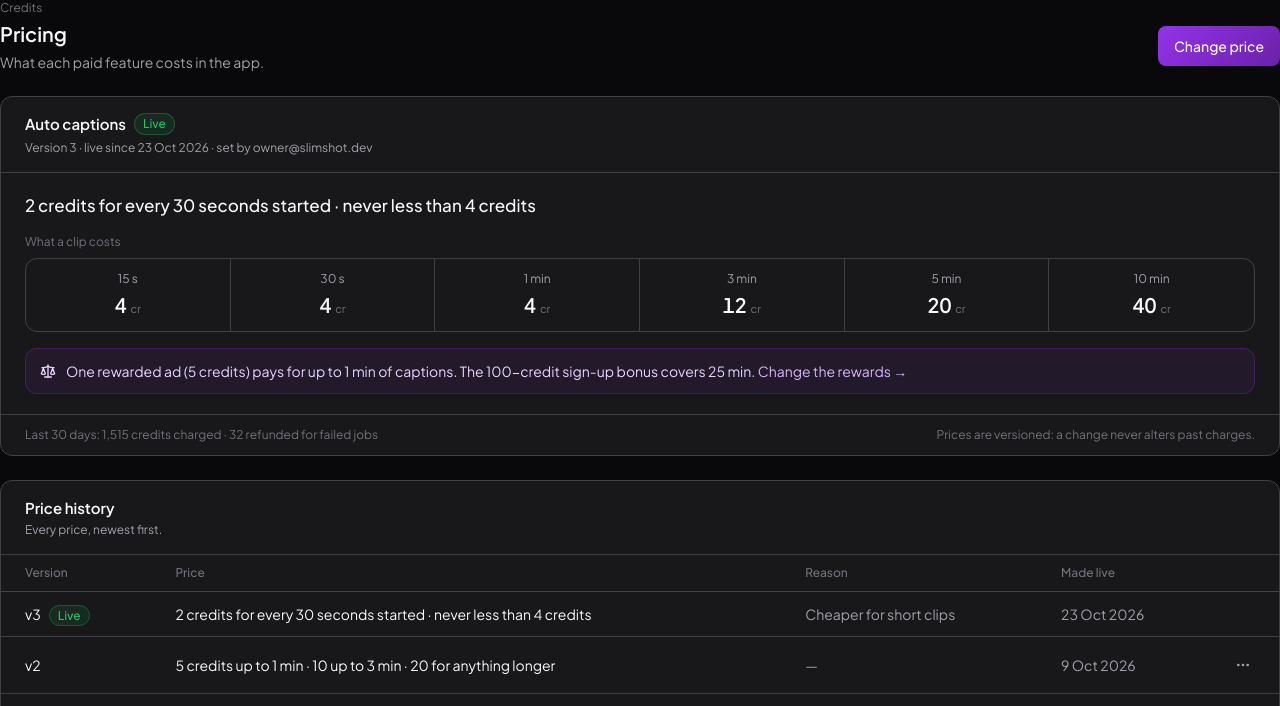
Test: PricingPage › asks before making a history version live
The width and height of the screenshot is (1280, 706).
Step 1. Click the button named "Actions for v2" → (1243, 664), box [1223, 648, 1263, 680]
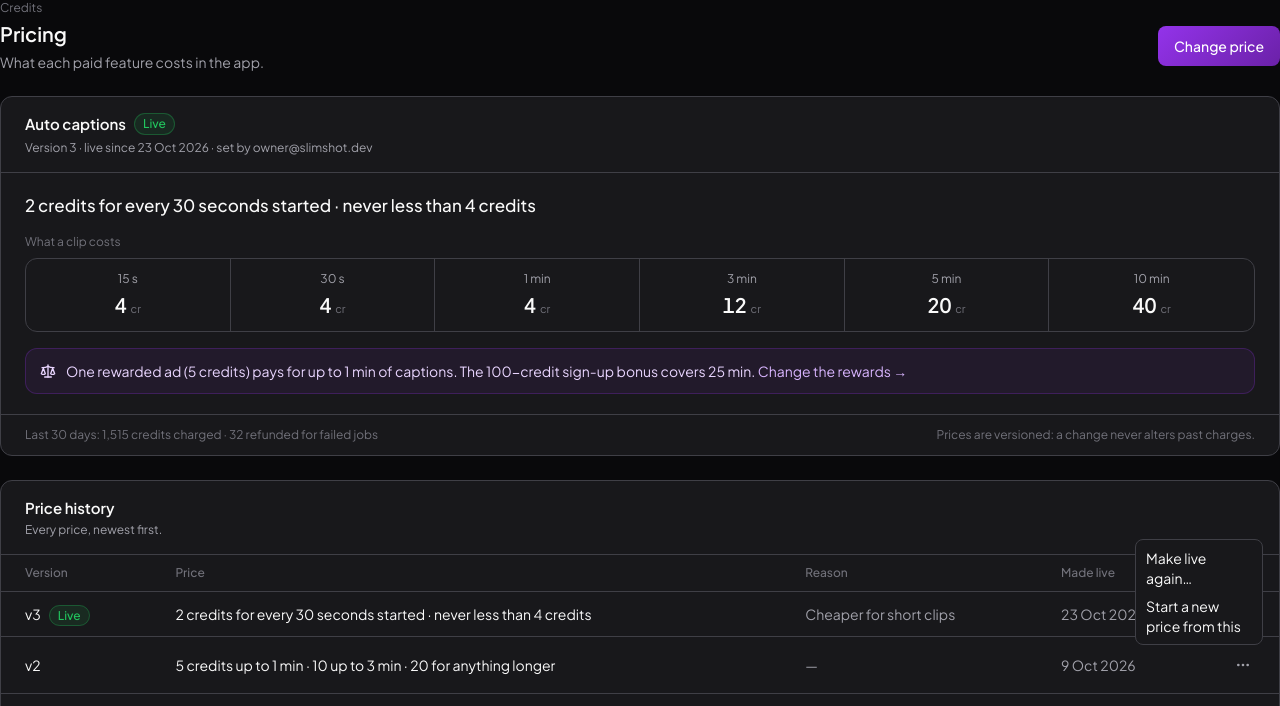
Step 2. Click the menu item "Make live again…" → (1176, 568), box [1146, 549, 1206, 587]
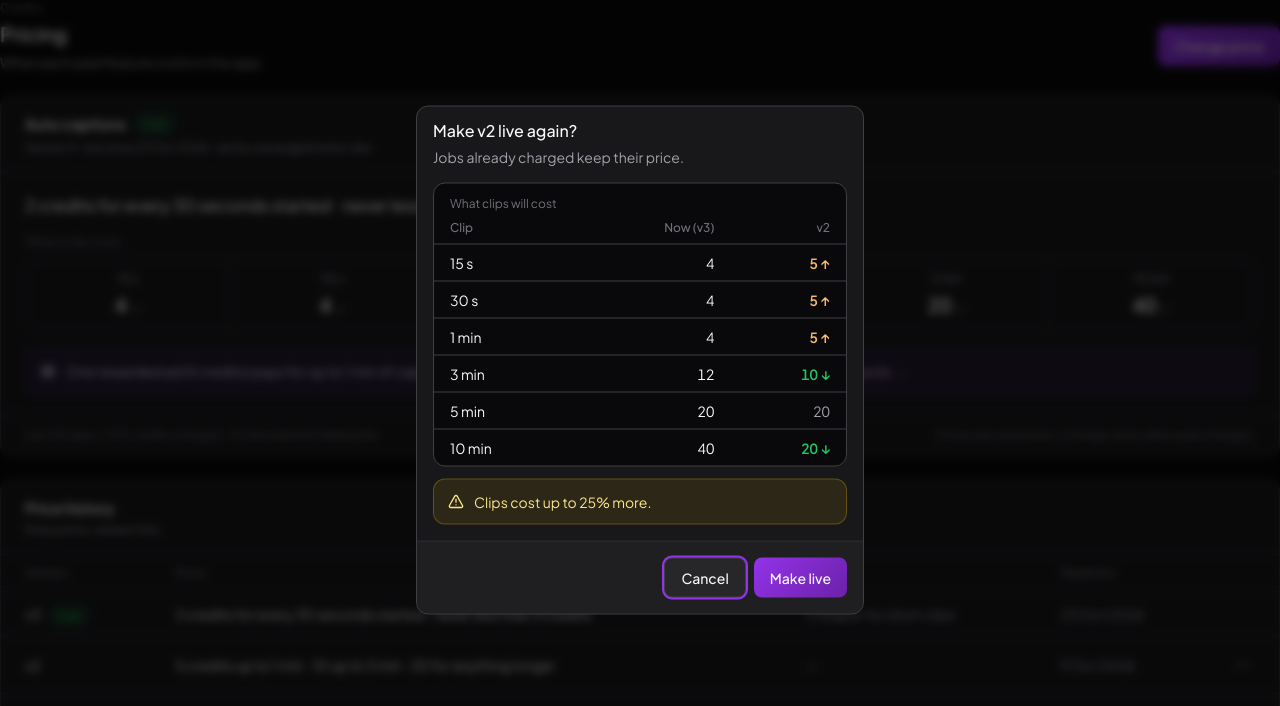
Now the dialog "Make v2 live again?" is shown, box [416, 106, 864, 614]
